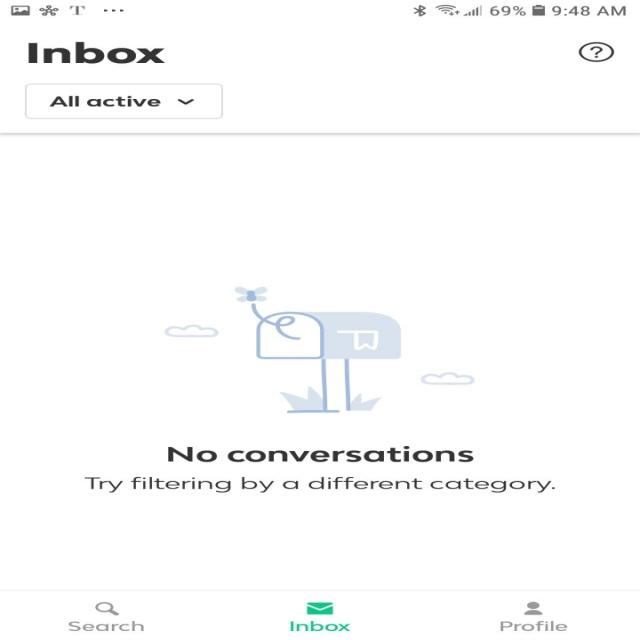Icon: (576, 41, 614, 62), (94, 602, 119, 616), (306, 602, 334, 614), (522, 601, 542, 615)
Image: (162, 286, 474, 413)
Text: (83, 476, 554, 492), (167, 445, 474, 462), (28, 42, 164, 64), (68, 620, 144, 631), (500, 620, 568, 631), (290, 620, 350, 631)
TextButton: (24, 83, 223, 119)
